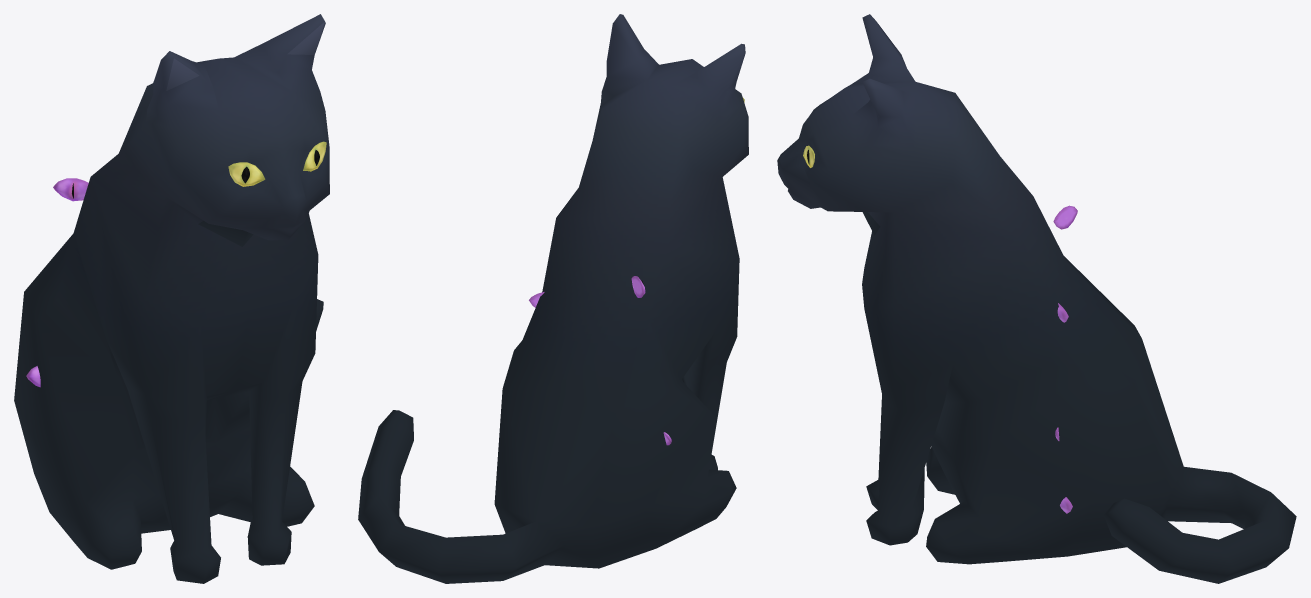
The model's file is psychiccat.glb.
3 views of the same model, side by side, from view 1: azimuth 30°, elevation 25°; view 2: azimuth 150°, elevation 25°; view 3: azimuth 270°, elevation 25° (orthographic). The views are drawn at different scales.
Parts seen in each view (by area): view 1: polySurface5, catEye, catEye.003; view 2: polySurface5; view 3: polySurface5.
Part boxes in pixels (bbox=[...]): polySurface5: bbox=[14, 14, 329, 583]; catEye: bbox=[228, 141, 326, 186]; catEye.003: bbox=[53, 178, 88, 201]; polySurface5: bbox=[358, 14, 748, 583]; polySurface5: bbox=[777, 14, 1296, 583].
Size of the model in its own units: 0.3231 by 0.4943 by 0.4899.
4 materials, 3 textured.
